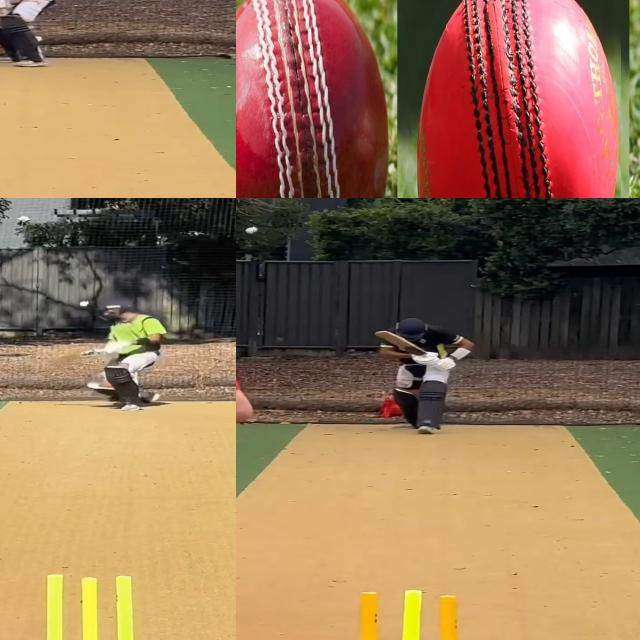Cricket ball: (403, 0, 621, 198), (236, 0, 392, 198), (244, 226, 259, 235), (78, 300, 90, 307)
Stumps: (27, 572, 156, 640), (341, 591, 474, 640)
